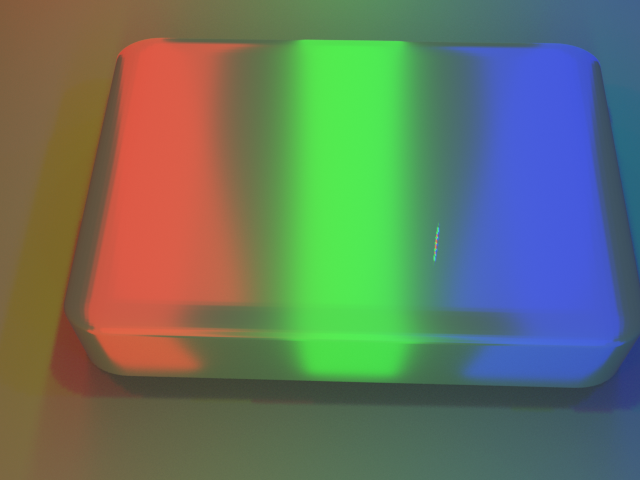scratch: (357, 191, 545, 301)
